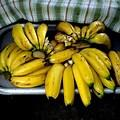banana: (0, 19, 120, 108), (47, 50, 120, 102), (0, 41, 55, 86), (72, 62, 97, 101), (11, 25, 49, 45), (60, 61, 77, 104), (46, 65, 64, 101)
